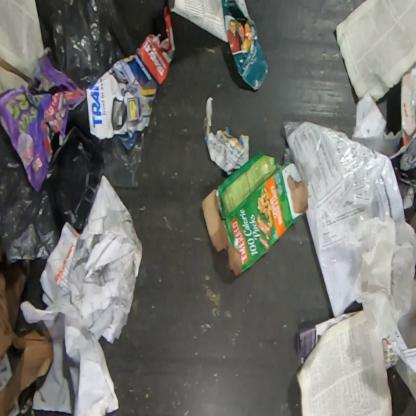cardboard: (199, 152, 309, 279), (0, 263, 55, 415), (399, 58, 415, 152)
rigid_plastic: (44, 126, 104, 233)
soft_plastic: (282, 120, 405, 317), (0, 120, 67, 263), (34, 0, 139, 89), (100, 134, 146, 188), (398, 131, 415, 193)
